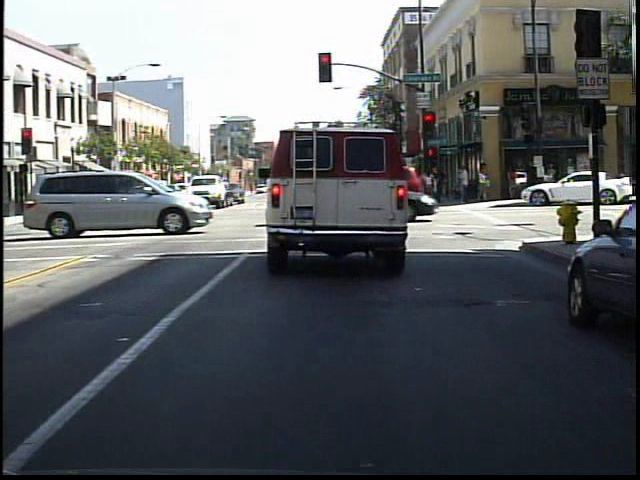person: (523, 156, 541, 191), (506, 160, 520, 201)
